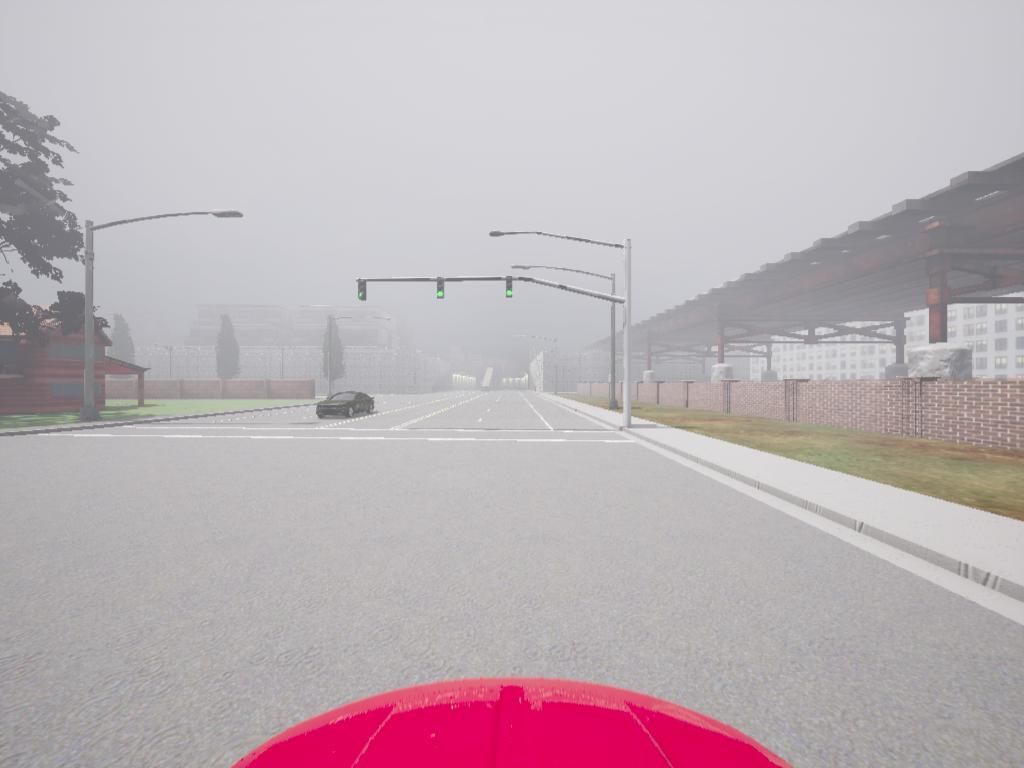traffic_light: (359, 280, 370, 302), (436, 282, 447, 300), (503, 287, 513, 299)
